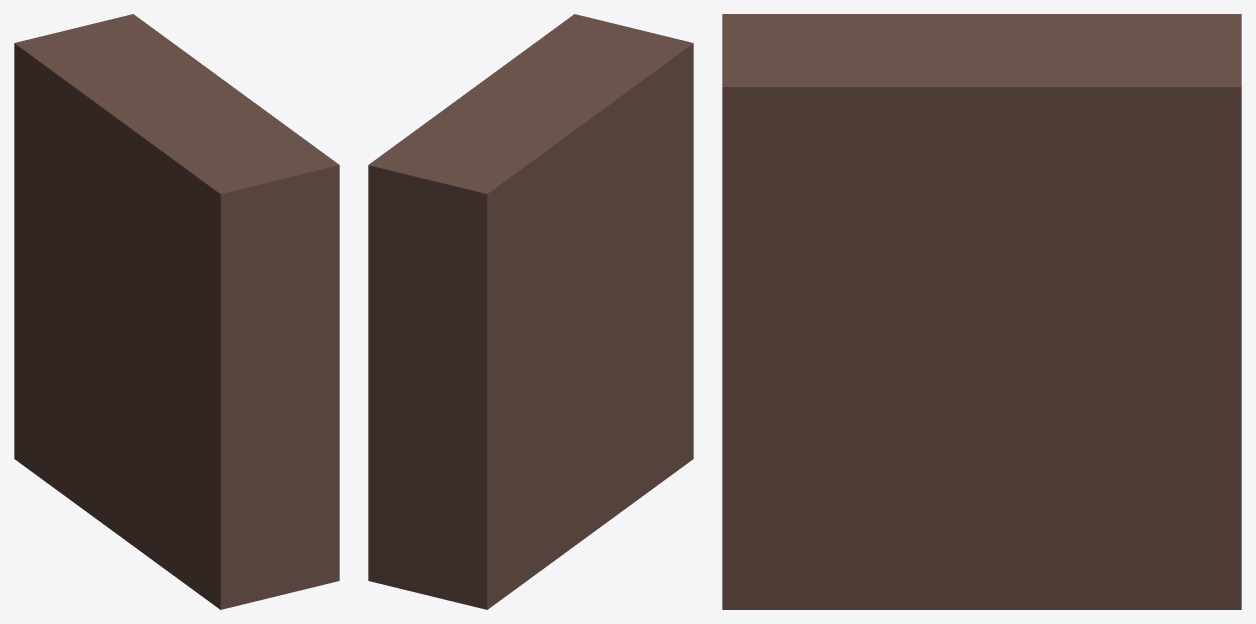
File: GCC-AAV-13220-30(3).fbx
The picture shows the model from 3 angles, left to right: view 1: azimuth 30°, elevation 25°; view 2: azimuth 150°, elevation 25°; view 3: azimuth 270°, elevation 25°; orthographic projection. The views are drawn at different scales.
Visible parts, largest first — view 1: BOX 1 of EQUIPMENT /13220-BD-001-PLC-001; view 2: BOX 1 of EQUIPMENT /13220-BD-001-PLC-001; view 3: BOX 1 of EQUIPMENT /13220-BD-001-PLC-001.
Part boxes in pixels (box(x1,y1,x2,y2)): BOX 1 of EQUIPMENT /13220-BD-001-PLC-001: box(14, 14, 339, 609); BOX 1 of EQUIPMENT /13220-BD-001-PLC-001: box(368, 14, 693, 609); BOX 1 of EQUIPMENT /13220-BD-001-PLC-001: box(722, 14, 1241, 609).
Size of the model in its own units: 23.63 by 78.74 by 70.87.
